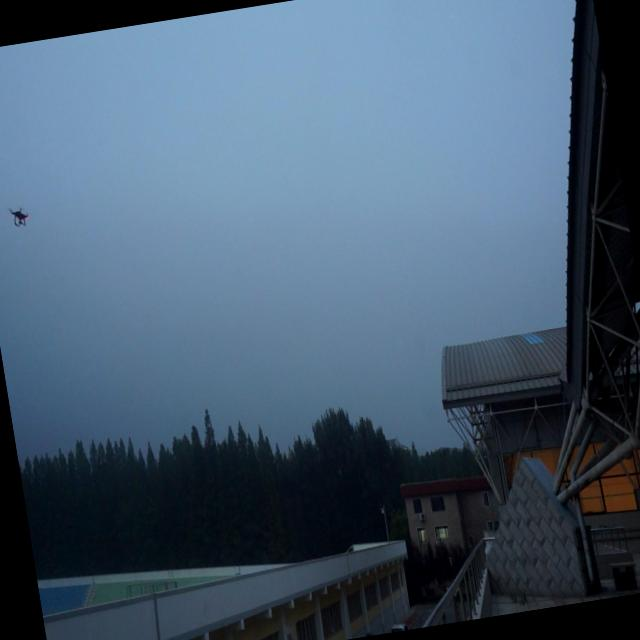drone: (8, 203, 32, 231)
